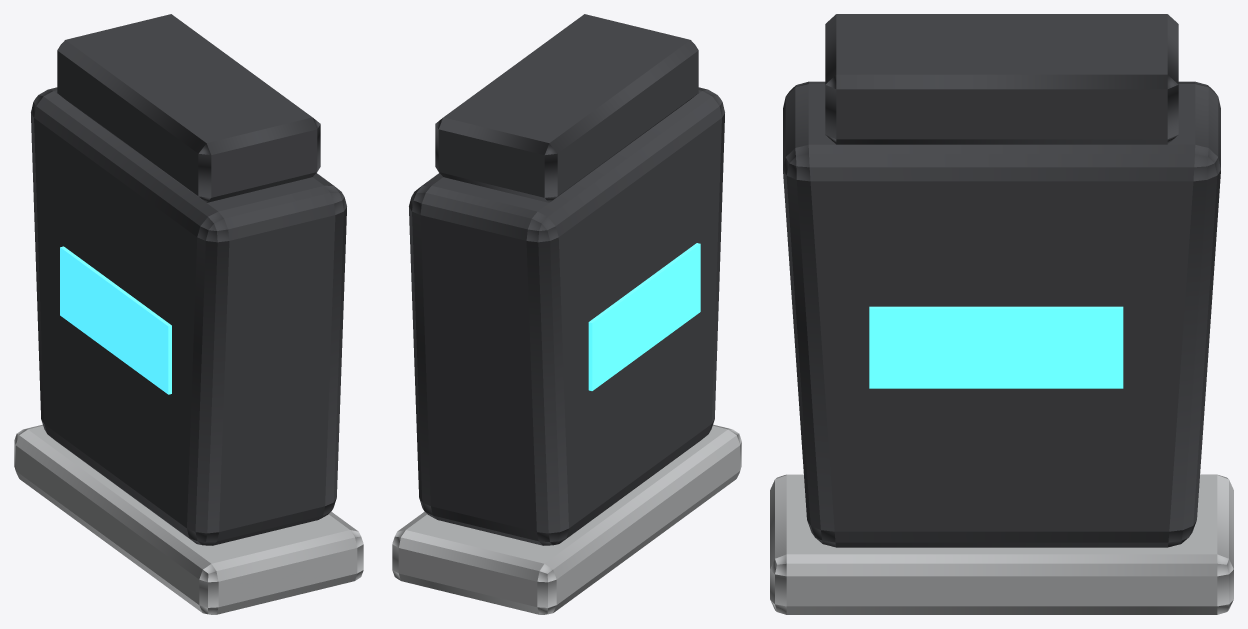
File: SM_SB_Sniper_Mag.fbx
3 renders of one model, left to right at view 1: azimuth 30°, elevation 25°; view 2: azimuth 150°, elevation 25°; view 3: azimuth 270°, elevation 25°, orthographic. The views are drawn at different scales.
Parts seen in each view (by area): view 1: SM_SB_Sniper_Mag; view 2: SM_SB_Sniper_Mag; view 3: SM_SB_Sniper_Mag.
Part boxes in pixels (x1=…): SM_SB_Sniper_Mag: x1=14, y1=14, x2=363, y2=614; SM_SB_Sniper_Mag: x1=392, y1=14, x2=741, y2=614; SM_SB_Sniper_Mag: x1=770, y1=14, x2=1233, y2=614.
Size of the model in its own units: 4 by 8.4 by 10.6.
